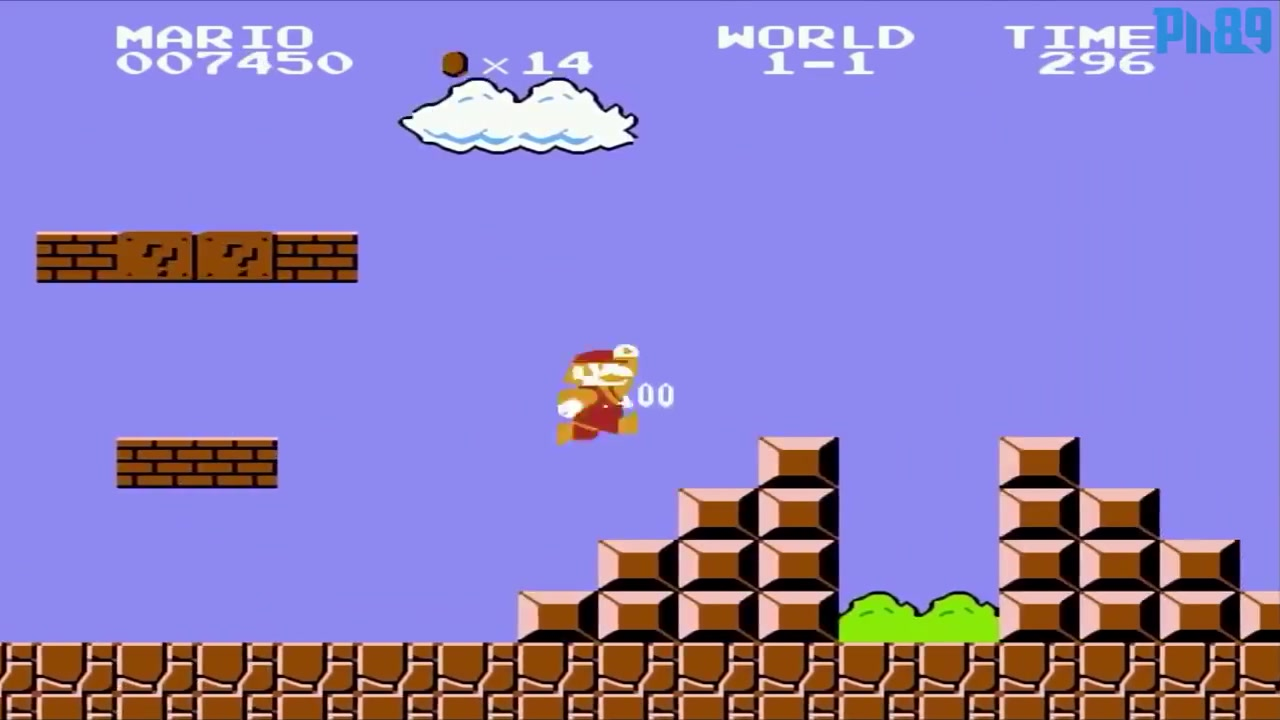mario: (552, 339, 647, 449)
